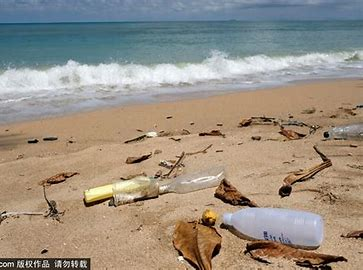garbage: (223, 204, 328, 249), (70, 175, 233, 202), (323, 118, 363, 142)
